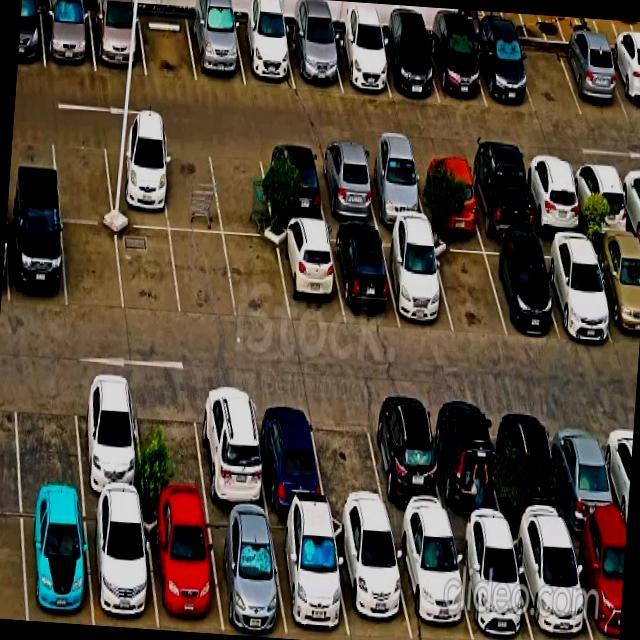car: (271, 526, 345, 640), (193, 398, 264, 509), (147, 520, 216, 633), (20, 512, 91, 619), (400, 533, 470, 640), (212, 527, 280, 637), (518, 535, 589, 640), (338, 529, 405, 640), (82, 522, 152, 628), (70, 397, 136, 503), (372, 412, 436, 517), (260, 406, 322, 514), (495, 417, 555, 524), (462, 538, 523, 640), (551, 426, 610, 529), (433, 416, 493, 516), (552, 246, 612, 341), (420, 153, 480, 247), (277, 228, 338, 320), (475, 156, 535, 248), (488, 249, 552, 335), (388, 235, 447, 326), (8, 213, 66, 304), (476, 10, 530, 104), (260, 142, 324, 220), (334, 234, 390, 321), (104, 148, 168, 224), (321, 143, 377, 229), (432, 8, 482, 102), (239, 0, 293, 85), (530, 162, 583, 248), (388, 8, 438, 98), (290, 4, 342, 90), (339, 8, 390, 95), (188, 0, 243, 80), (566, 34, 620, 114), (36, 0, 92, 73), (373, 147, 422, 228), (88, 0, 142, 73), (580, 165, 628, 245)
free: (12, 404, 80, 512), (133, 406, 201, 509), (312, 419, 378, 524), (61, 214, 122, 306), (173, 228, 232, 317), (116, 226, 176, 313), (212, 150, 270, 236), (52, 140, 112, 221), (227, 235, 287, 316), (440, 250, 497, 332), (162, 150, 218, 231), (137, 0, 192, 81), (525, 36, 575, 122)
